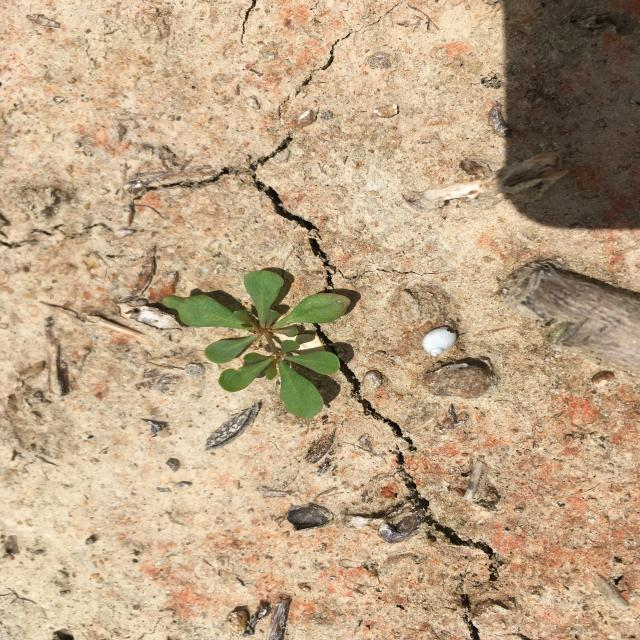Carpetweed: (162, 270, 351, 419)
